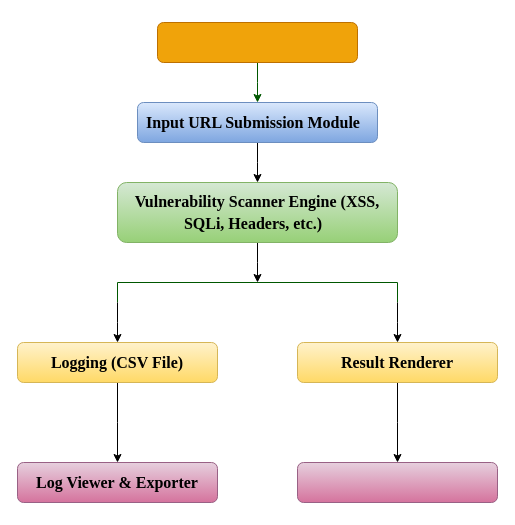
The diagram is 515 pixels wide and 525 high, and some of its shapes have lost their labels. Here are the shapes that lost their labels. From the top down, the centre of each, then its label:
the point at 257,42: End User (CLI/Web)
the point at 397,482: Web UI (Results + Chart)
